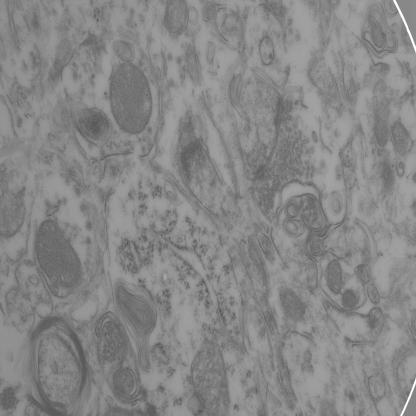mitochondria: (34, 216, 85, 295), (108, 58, 154, 138), (190, 336, 234, 416), (161, 0, 192, 40), (277, 282, 307, 322), (323, 253, 344, 297)
